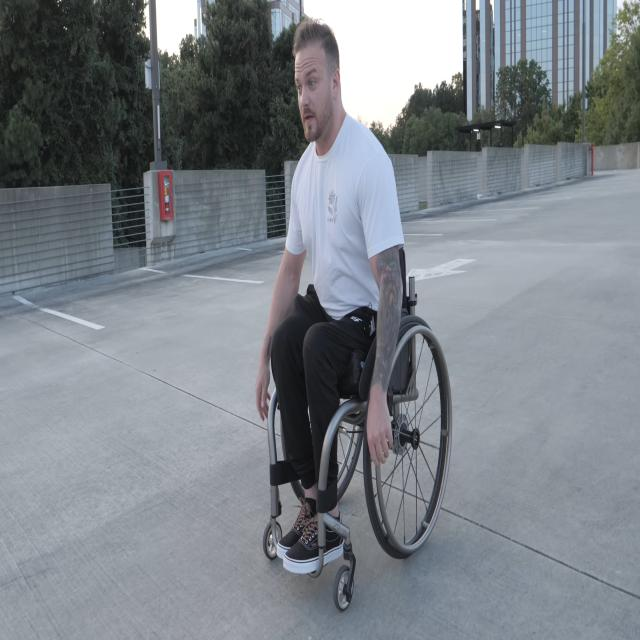wheelchairs: (266, 224, 452, 611)
